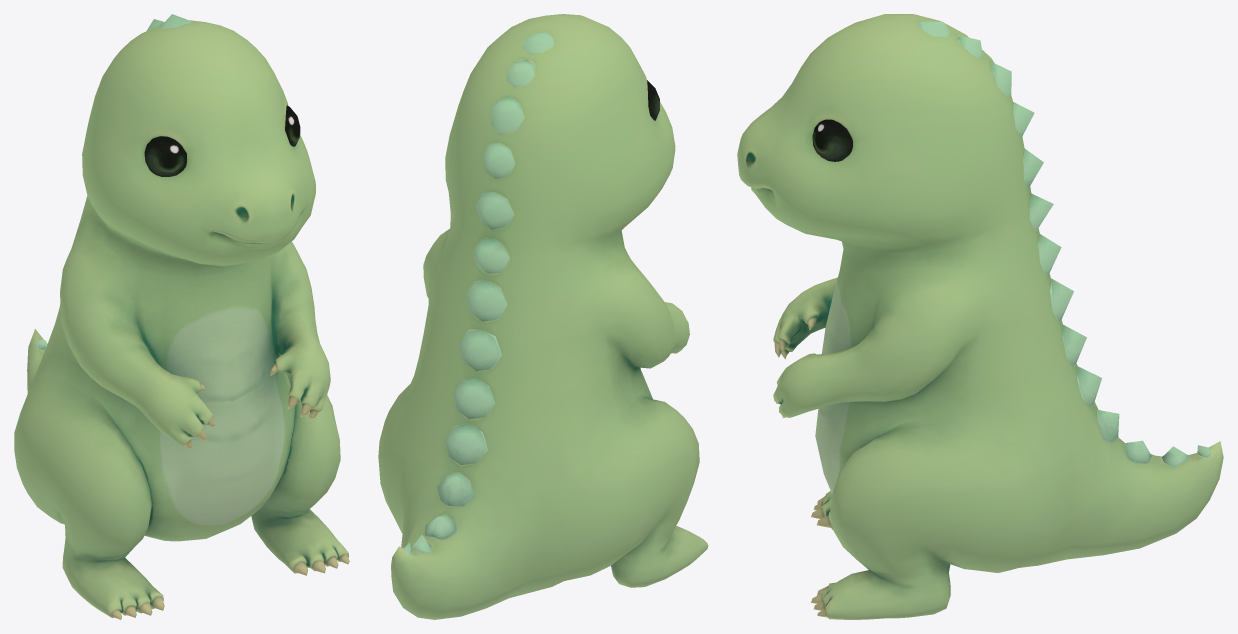
Rendered from dinosaur.glb.
3 views of the same model, side by side, from view 1: azimuth 30°, elevation 25°; view 2: azimuth 150°, elevation 25°; view 3: azimuth 270°, elevation 25° (orthographic). The views are drawn at different scales.
Parts seen in each view (by area): view 1: Dino; view 2: Dino; view 3: Dino.
Boxes of the visible parts, x1=… form: Dino: x1=14, y1=14, x2=349, y2=619; Dino: x1=378, y1=14, x2=708, y2=619; Dino: x1=737, y1=14, x2=1223, y2=619.
Bounding box in the file's own units: 2.26 × 4.25 × 3.46.
Materials: 1 (1 with a texture image).
